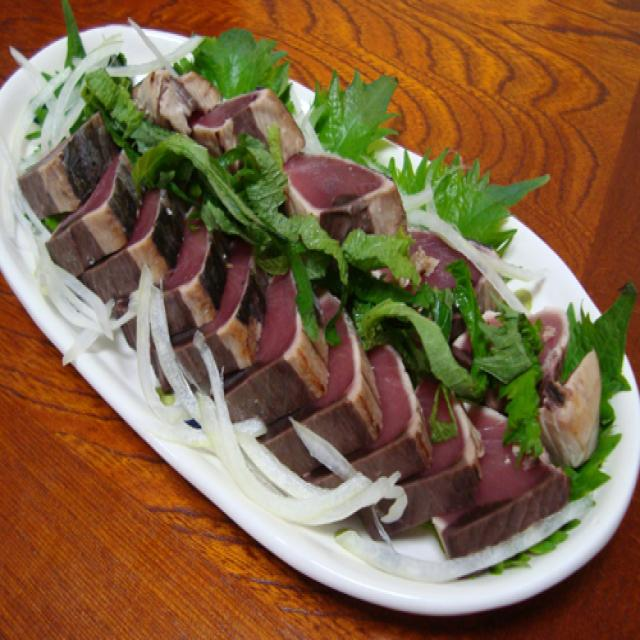熟制海鲜: (0, 31, 616, 597)
